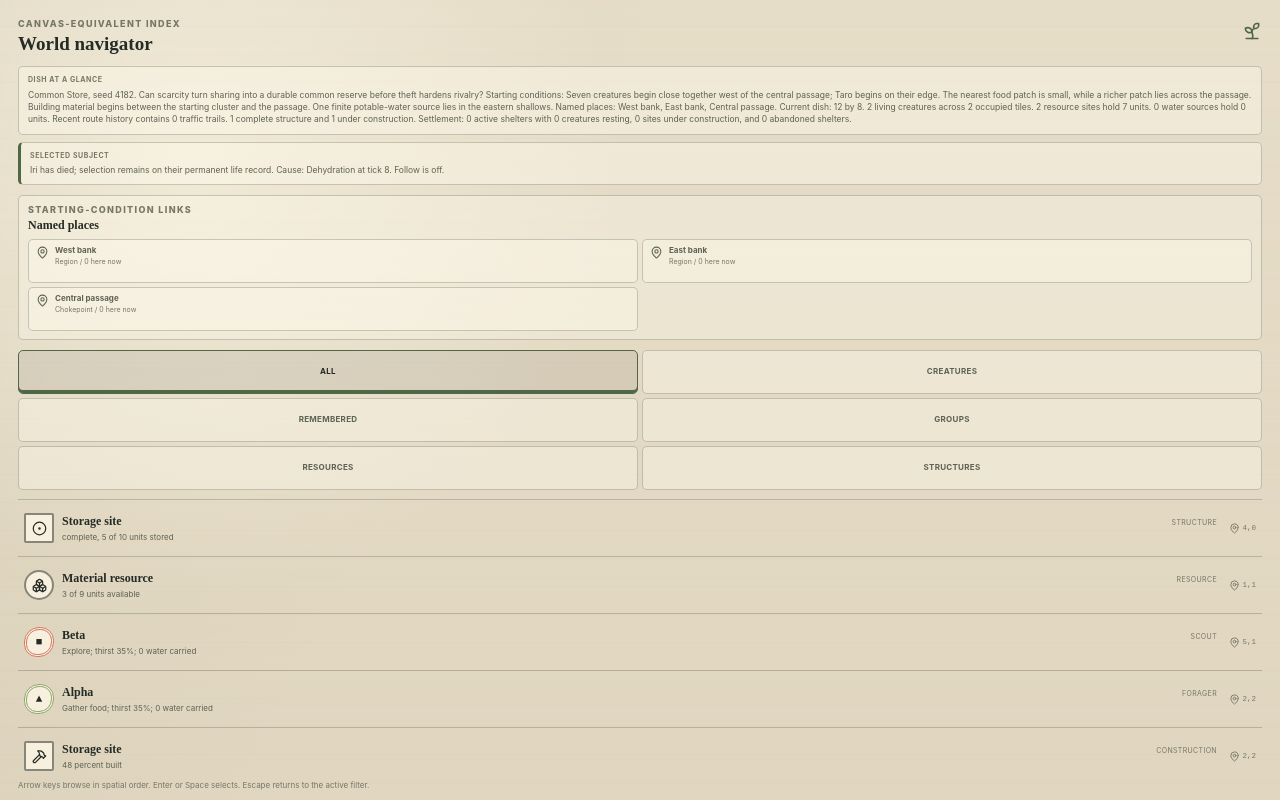
WorldNavigator › exposes temporary memorials and permanent records in a remembered view
Expected: the text "Iri has died; selection remains on their permanent life record" is shown, [30,165,444,175]
Click the button "Remembered". click: (328, 420)
box: [18,398,638,442]
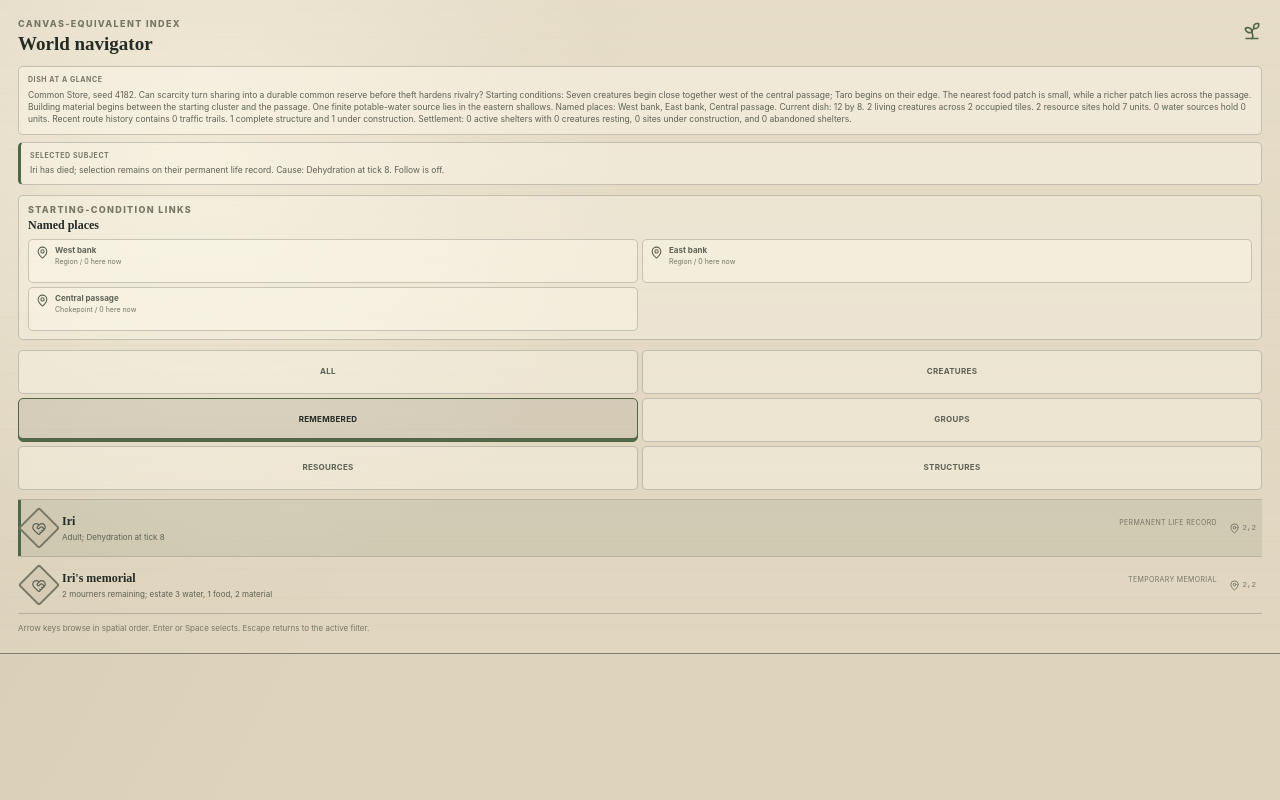
Now the button with aria-label "Iri's temporary memorial" is shown, box [18,557,1262,613]
